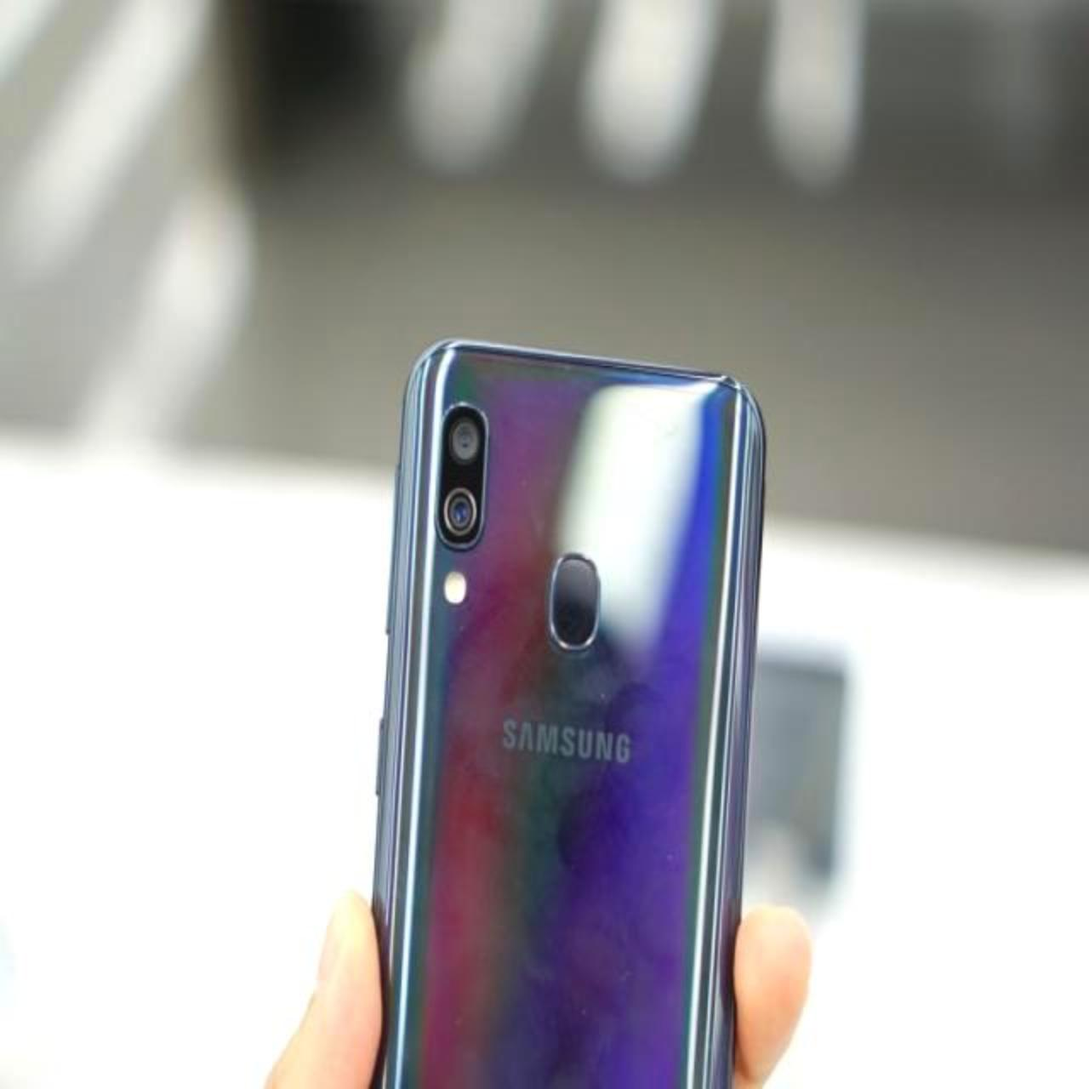phone: (364, 330, 776, 1089)
